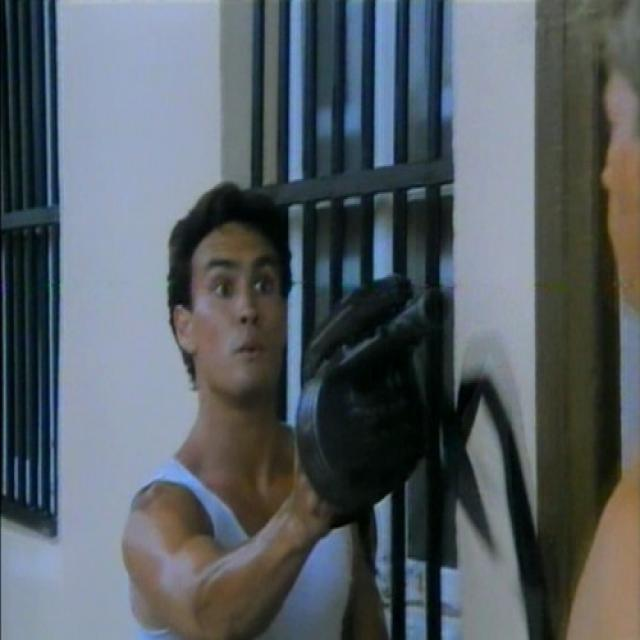rifle: (299, 275, 454, 519)
